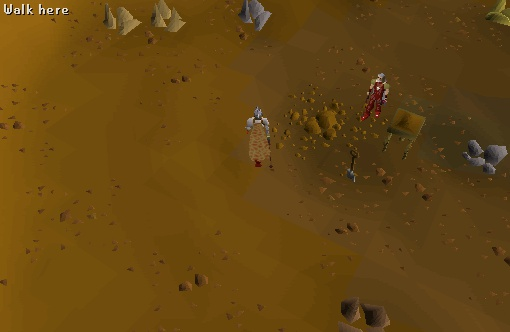clay: (97, 1, 146, 42), (145, 1, 194, 42)
